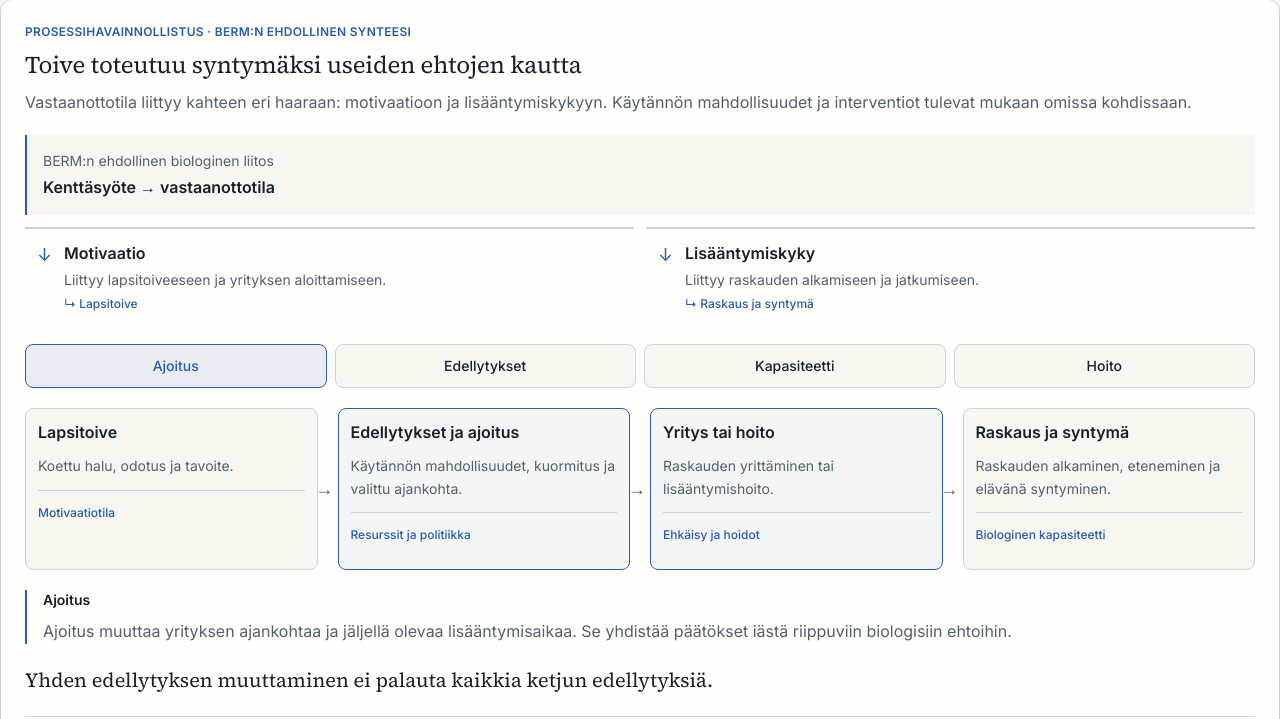
Test: ProxyDemographicProcess › highlights distinct capacity and treatment routes without removing the other conditions
The width and height of the screenshot is (1280, 719).
Click the button "Kapasiteetti" at (795, 366), box [644,344,946,388]
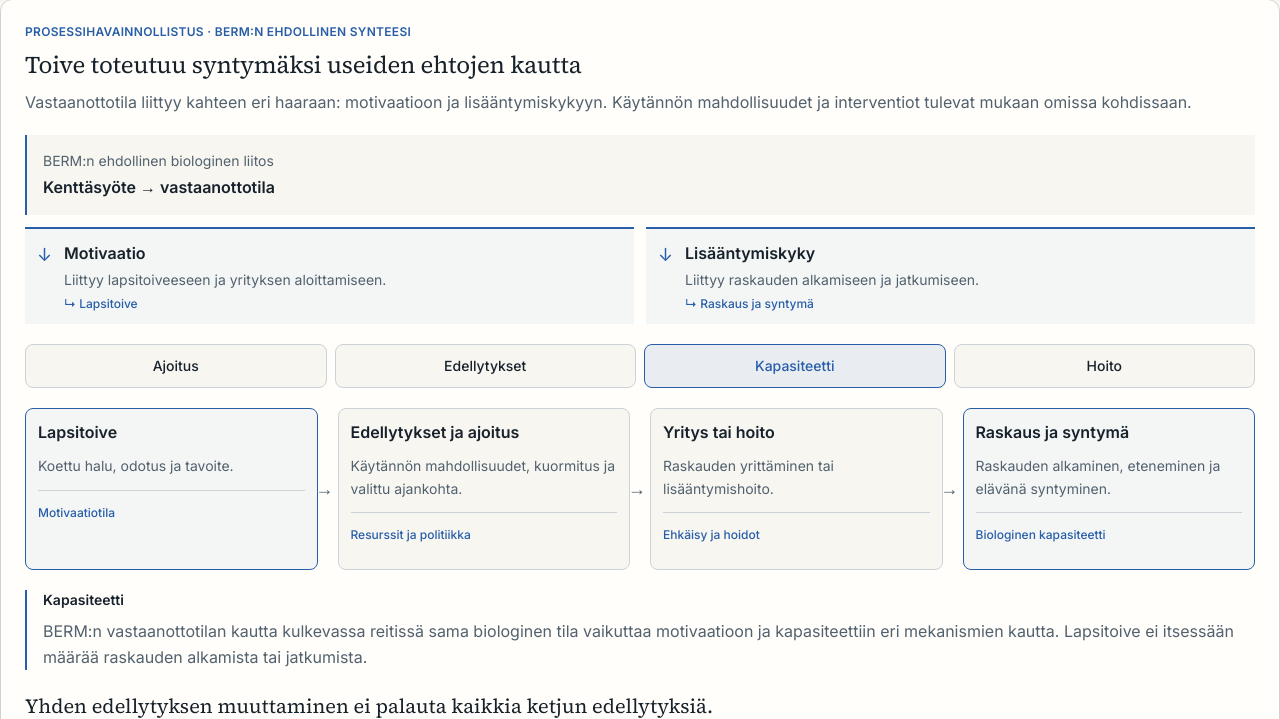
Expected: the text "Lapsitoive ei itsessään määrää" is shown, [43,621,1234,667]
Click the button "Hoito" at (1104, 366), box [954,344,1255,388]
(page scrolled)
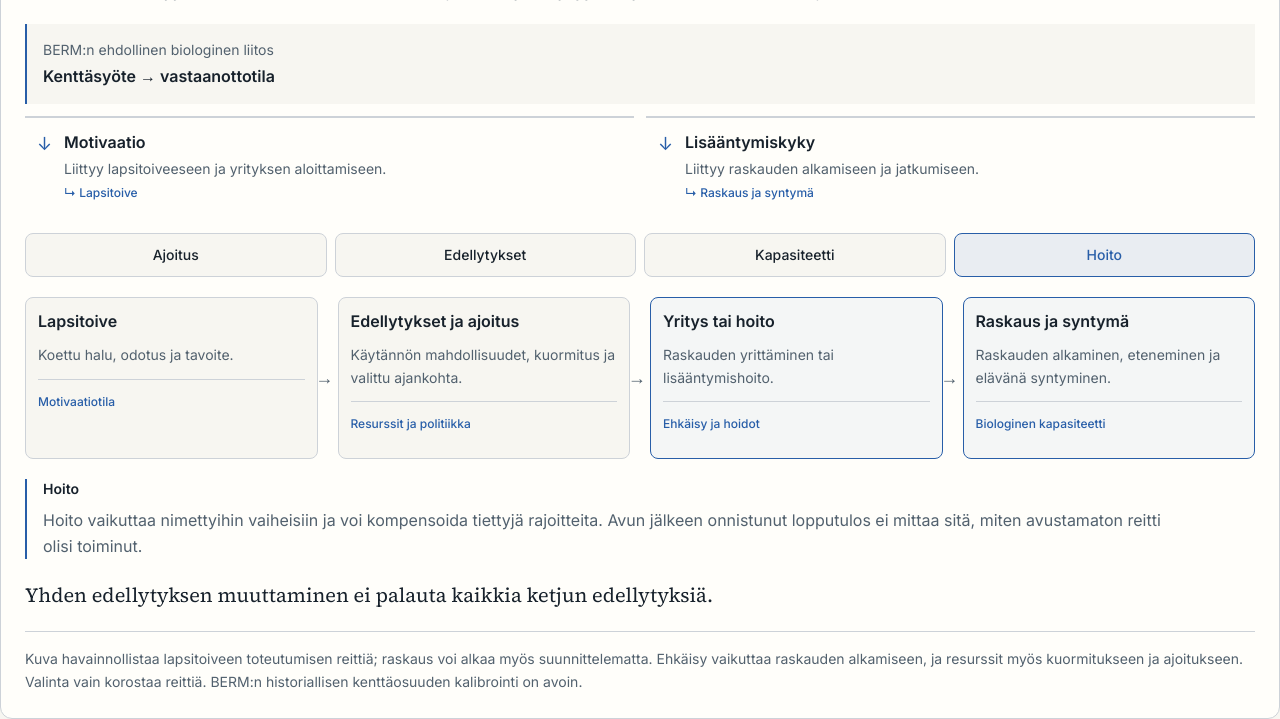
Expected: the text "Resurssit ja politiikka" is shown, [350,401,617,434]
Expected: the text "miten avustamaton reitti olisi toiminut" is shown, [43,510,1161,556]
